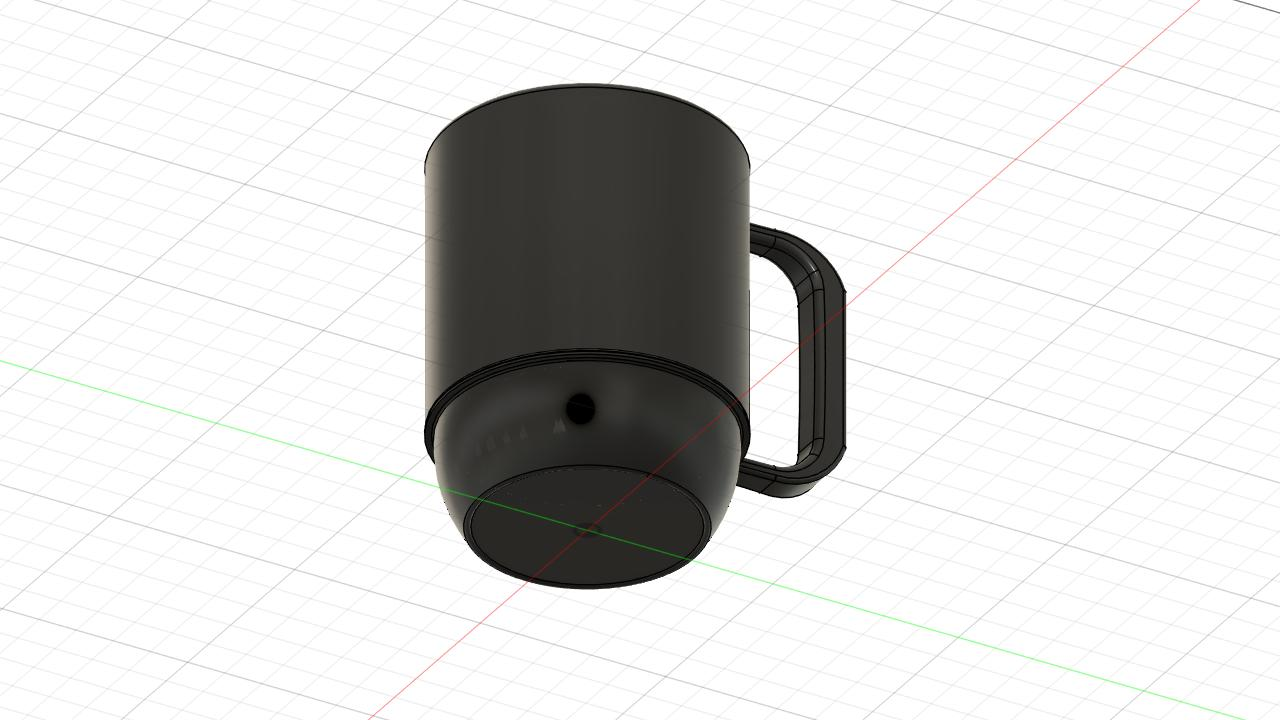mug-real100-3d100: (424, 85, 844, 588)
